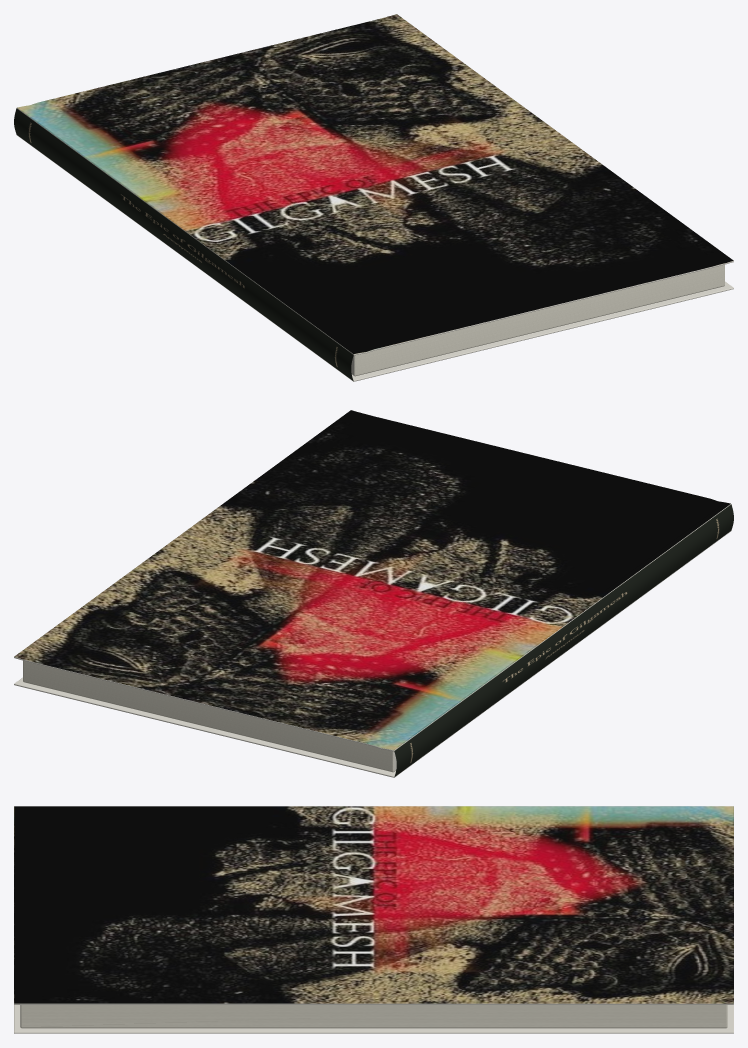
Rendered from epic-of-gilgamesh.glb.
3 renders of one model, top to bottom at view 1: azimuth 30°, elevation 25°; view 2: azimuth 150°, elevation 25°; view 3: azimuth 270°, elevation 25°, orthographic. The views are drawn at different scales.
Visible parts, largest first — view 1: Book.epic-of-gilgamesh; view 2: Book.epic-of-gilgamesh; view 3: Book.epic-of-gilgamesh.
Part boxes in pixels (x1=…): Book.epic-of-gilgamesh: x1=14, y1=14, x2=733, y2=381; Book.epic-of-gilgamesh: x1=14, y1=410, x2=733, y2=777; Book.epic-of-gilgamesh: x1=14, y1=806, x2=733, y2=1033.
Bounding box in the file's own units: 0.1299 × 0.00925 × 0.198.
Materials: 3 (2 with a texture image).
